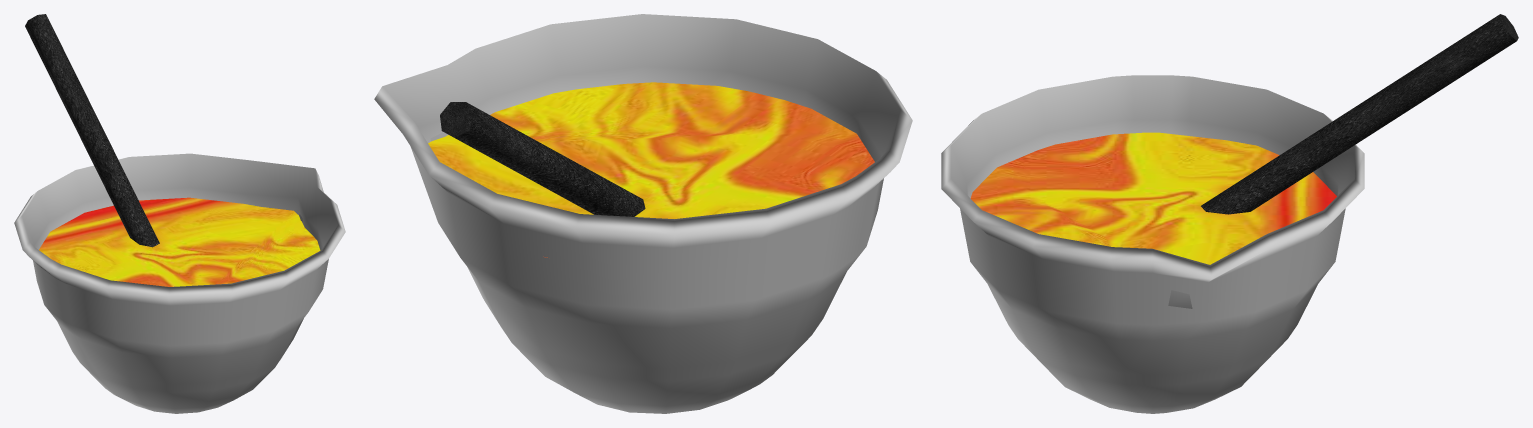
The model's file is melting rod.fbx.
3 views of the same model, side by side, from view 1: azimuth 30°, elevation 25°; view 2: azimuth 150°, elevation 25°; view 3: azimuth 270°, elevation 25° (orthographic). The views are drawn at different scales.
Parts seen in each view (by area): view 1: pot, rod1; view 2: pot, rod1; view 3: pot, rod1.
Boxes of the visible parts, x1,y1,x2,y2 form: pot: (14,153,345,413); rod1: (25,14,159,247); pot: (374,14,912,413); rod1: (440,102,645,216); pot: (941,75,1364,413); rod1: (1201,14,1518,214).
Size of the model in its own units: 1.16 by 1.01 by 1.47.
